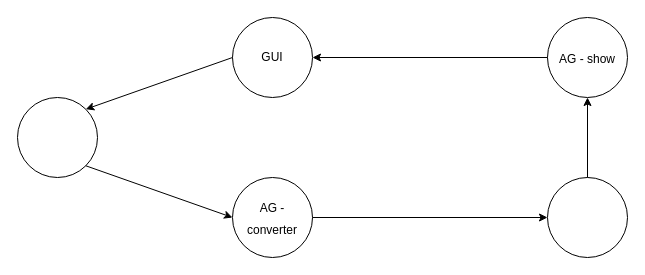
Image size: 645x275. Some labels were removed from this diagram. The centre of each missing label's shape, as x and y in pixels:
"AG -" goes at (587,217).
"AG - Reciver" goes at (57,137).
